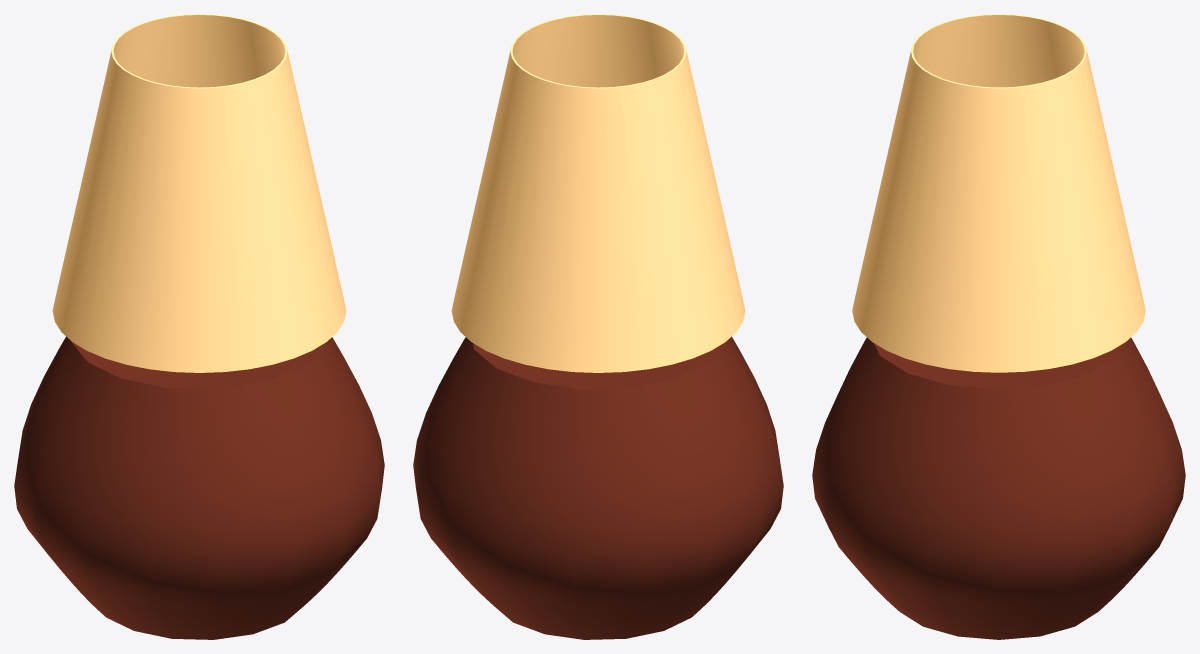
File: Table_Lamp_AppleBase_ConeShade.fbx
The picture shows the model from 3 angles, left to right: view 1: azimuth 30°, elevation 25°; view 2: azimuth 150°, elevation 25°; view 3: azimuth 270°, elevation 25°; orthographic projection.
Parts seen in each view (by area): view 1: Table_Lamp_AppleBase_ConeShade; view 2: Table_Lamp_AppleBase_ConeShade; view 3: Table_Lamp_AppleBase_ConeShade.
Boxes of the visible parts, x1,y1,x2,y2 form: Table_Lamp_AppleBase_ConeShade: [14, 14, 384, 639]; Table_Lamp_AppleBase_ConeShade: [413, 14, 783, 639]; Table_Lamp_AppleBase_ConeShade: [812, 14, 1185, 639].
Size of the model in its own units: 39.12 by 62.8 by 39.12.
